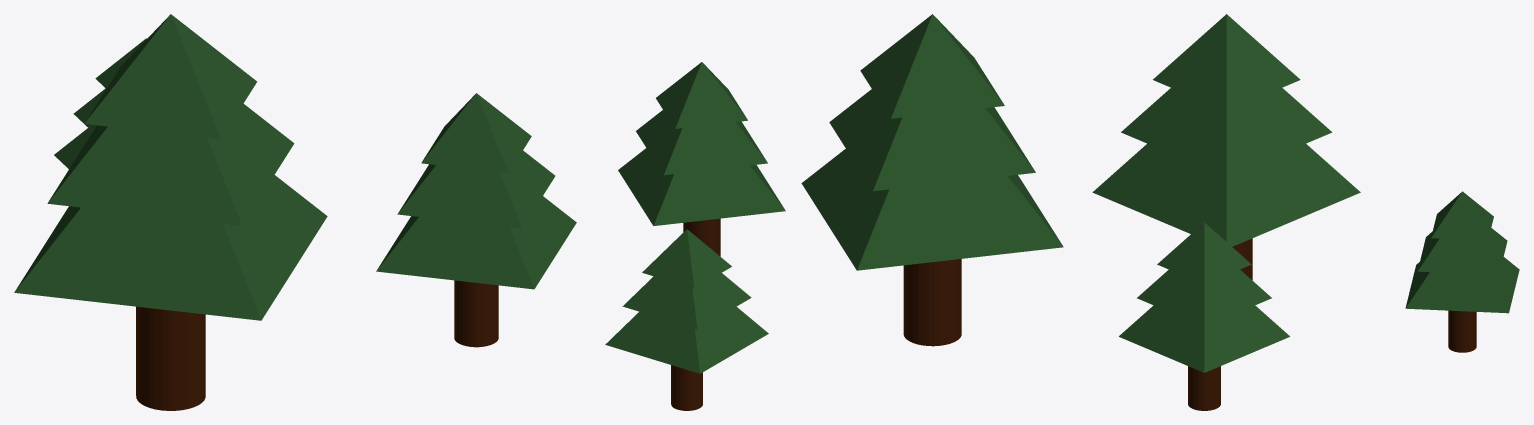
Rendered from TreesCombinedV4.fbx.
3 views of the same model, side by side, from view 1: azimuth 30°, elevation 25°; view 2: azimuth 150°, elevation 25°; view 3: azimuth 270°, elevation 25° (orthographic). The views are drawn at different scales.
Parts seen in each view (by area): view 1: Bot Branches; view 2: Bot Branches; view 3: Bot Branches.
Part boxes in pixels (box(x1,y1,x2,y2)): Bot Branches: box(14, 14, 576, 410); Bot Branches: box(605, 14, 1063, 410); Bot Branches: box(1092, 14, 1519, 410).
Bounding box in the file's own units: 8.88 × 5.94 × 8.08.
